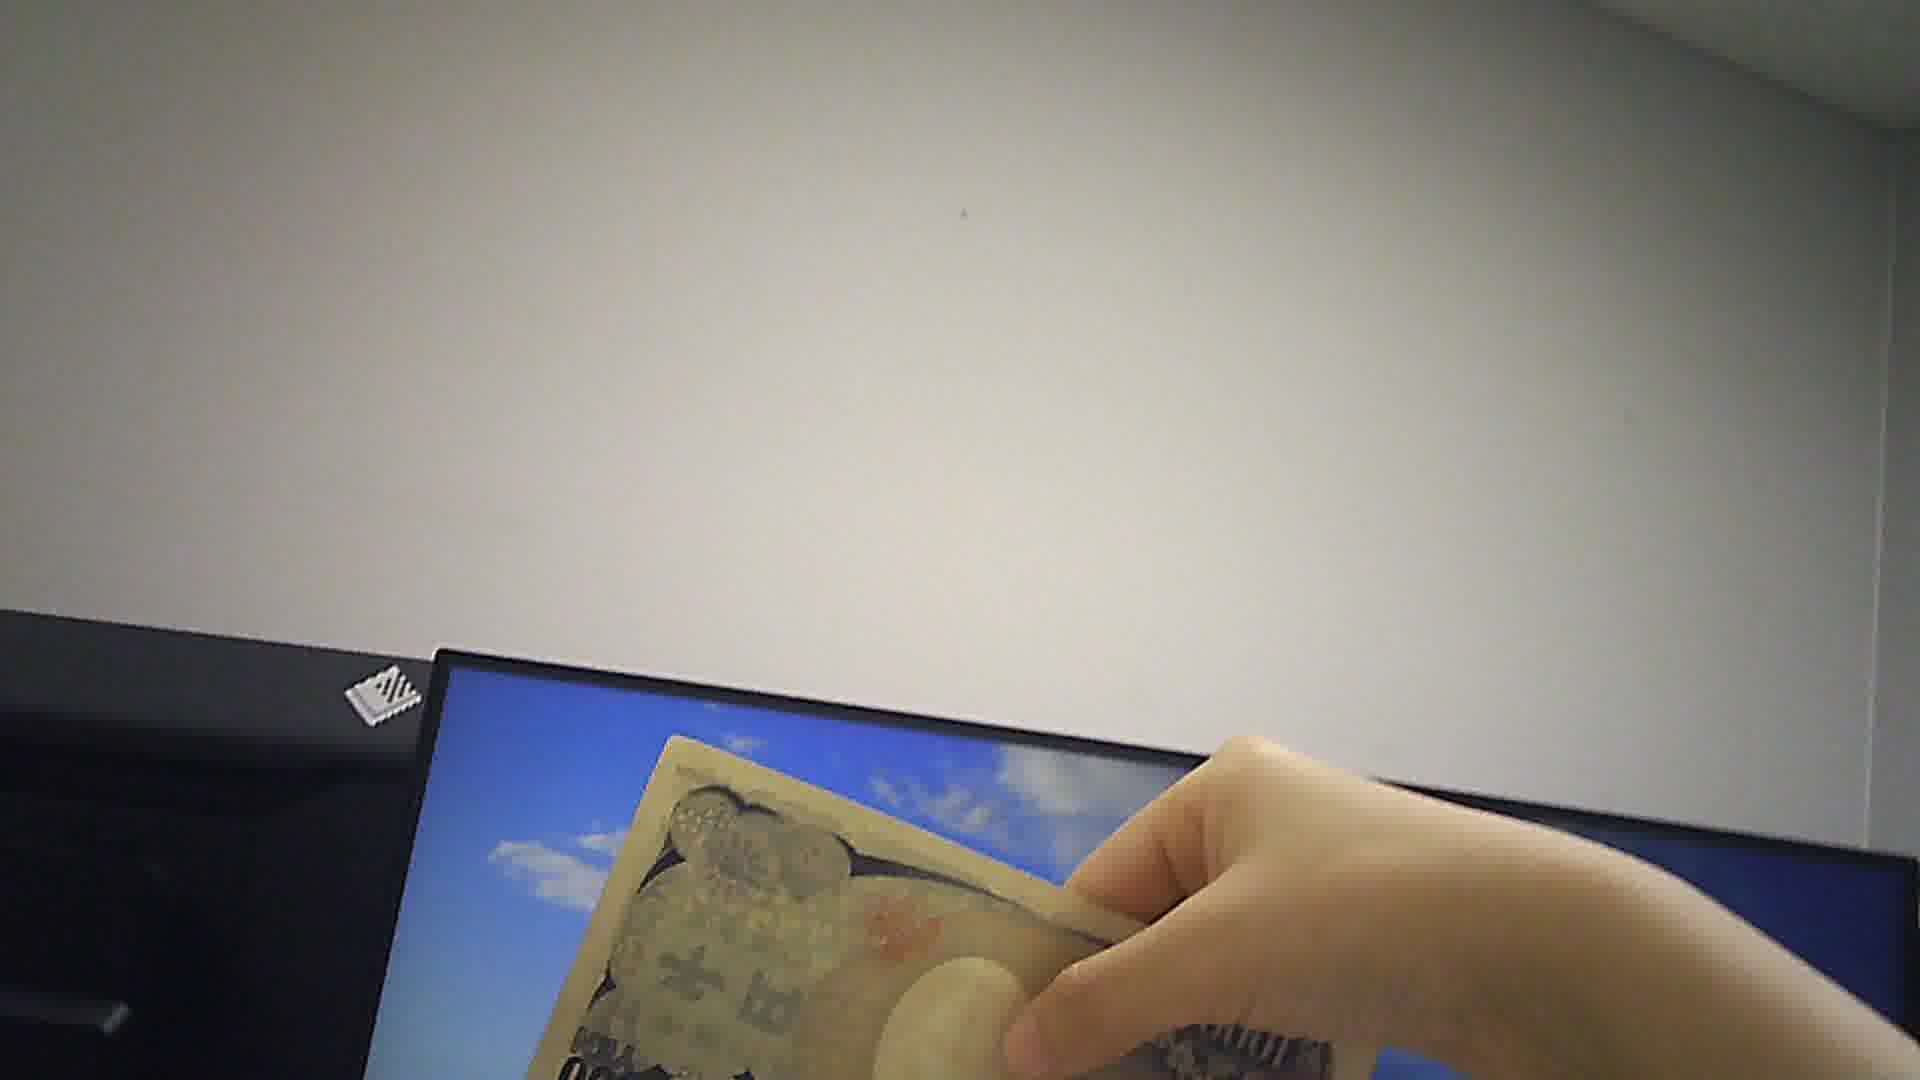1,000 Yen: (522, 727, 1402, 1079)
